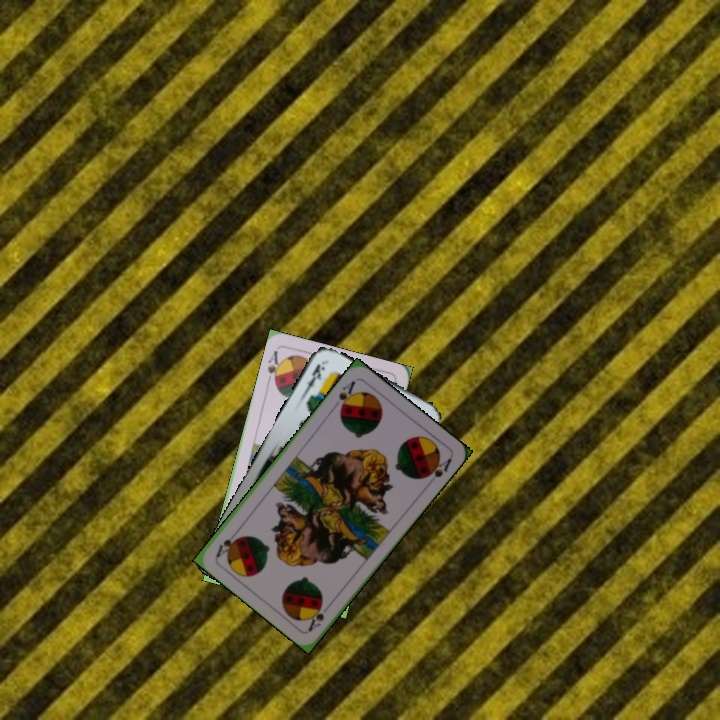EK: (300, 358, 328, 396)
SA: (304, 599, 334, 634), (263, 346, 285, 388), (335, 376, 358, 415)
